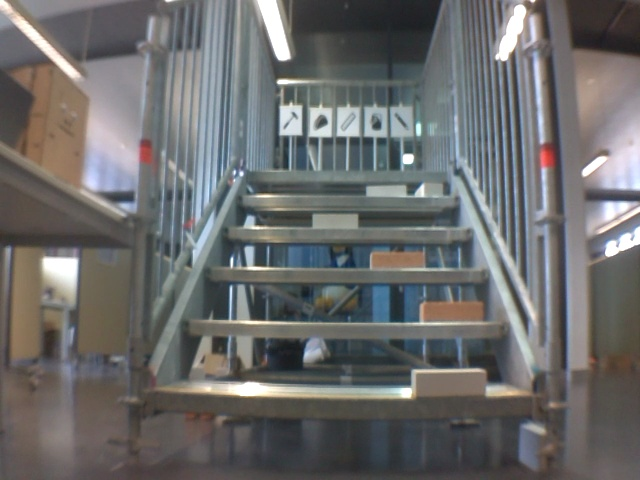brick: (411, 369, 486, 397), (421, 302, 481, 323), (370, 253, 424, 269), (313, 215, 357, 229), (368, 186, 405, 197), (416, 183, 442, 196)
bucket: (369, 111, 386, 133)
edge: (156, 390, 535, 417), (183, 320, 511, 338), (205, 267, 488, 282), (219, 226, 473, 240), (238, 195, 460, 207), (248, 170, 449, 181)
hammer: (278, 109, 300, 134)
pencil: (391, 110, 410, 131)
ruler: (338, 110, 357, 134)
stairs: (127, 1, 571, 465)
steps: (150, 166, 544, 421)
taco: (312, 112, 330, 133)
